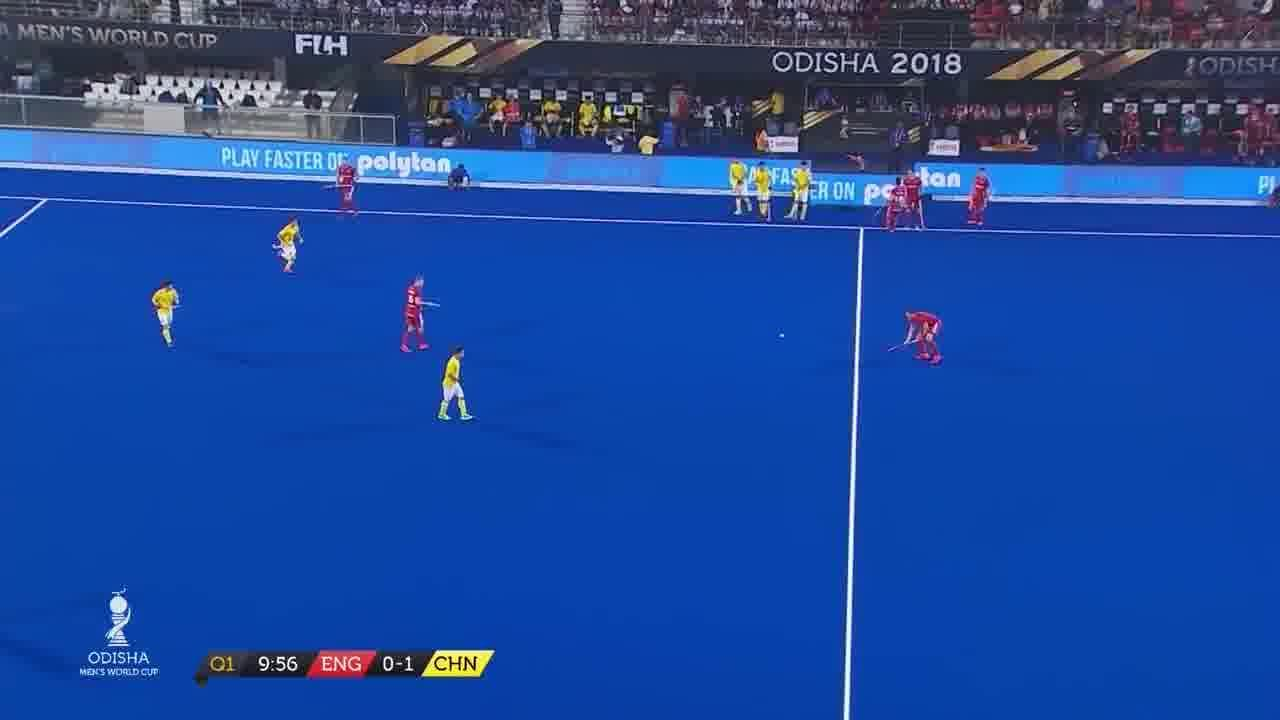ball: (776, 328, 788, 341)
